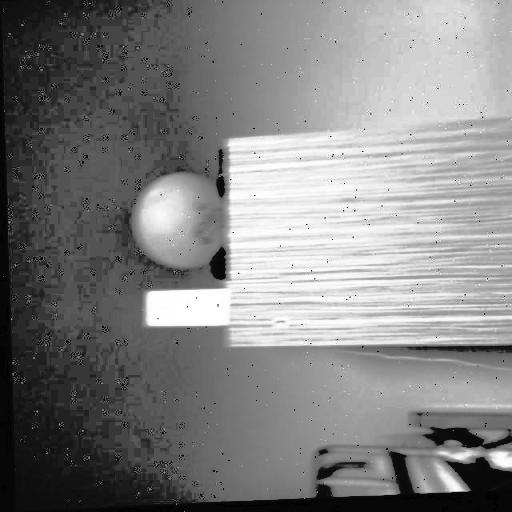balloon: (127, 172, 224, 271)
